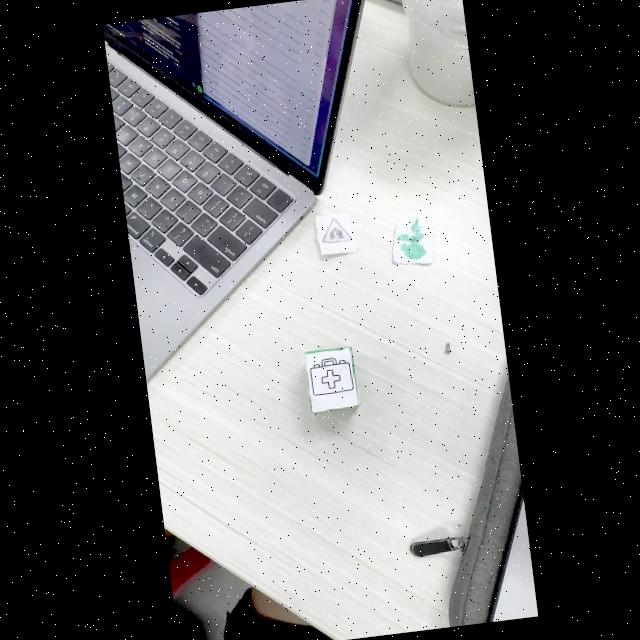Medkit: (308, 358, 353, 402)
